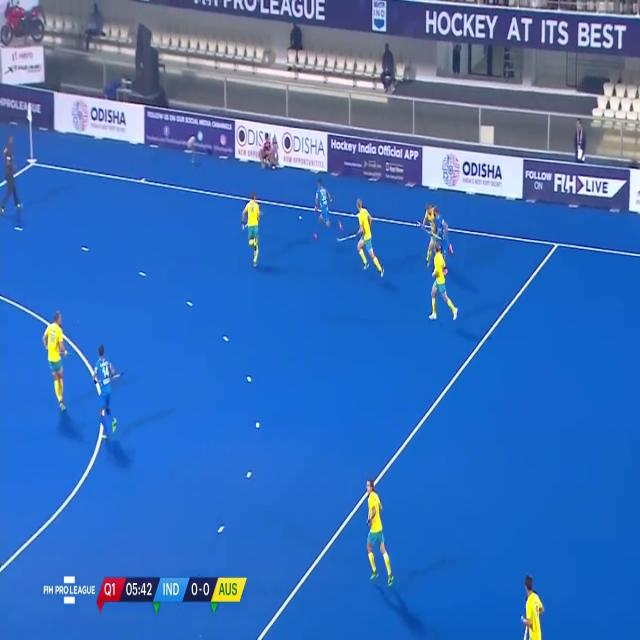ball: (296, 213, 304, 222)
